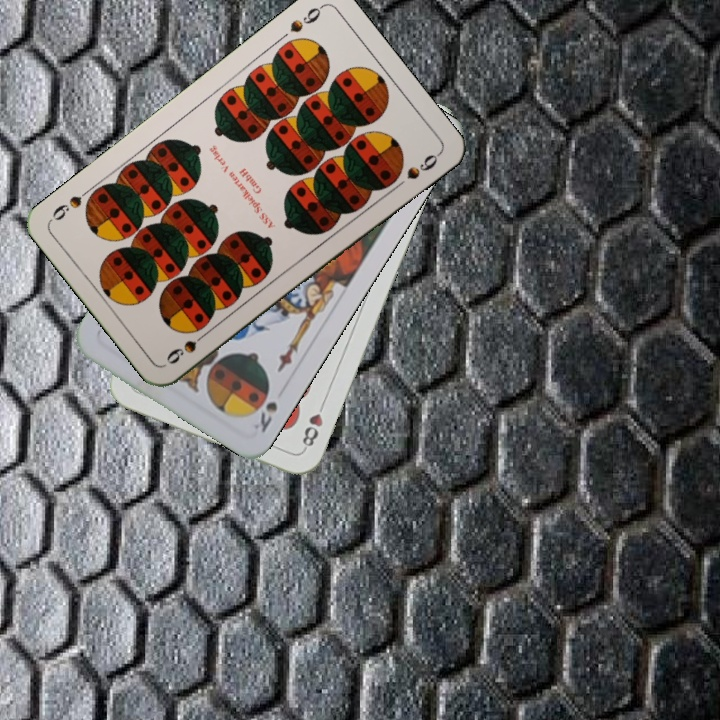H8: (298, 396, 328, 453)
S9: (162, 326, 213, 367), (285, 1, 326, 35)
SK: (249, 383, 280, 436)
